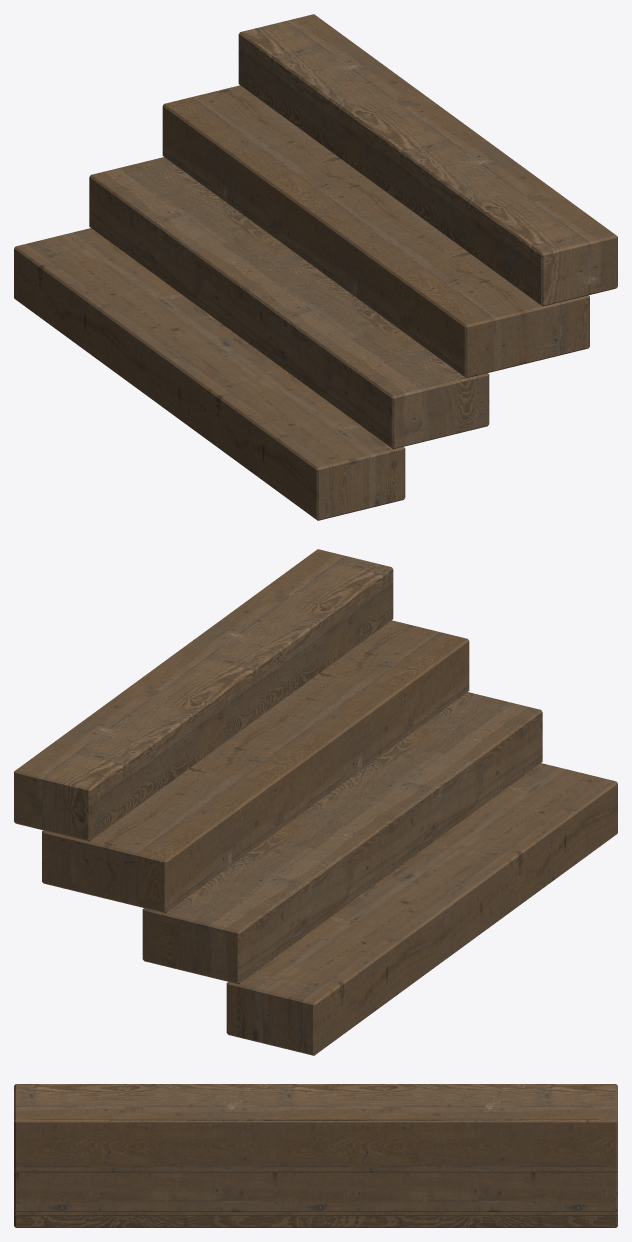
The model's file is SM_Stair04C.fbx.
The picture shows the model from 3 angles, top to bottom: view 1: azimuth 30°, elevation 25°; view 2: azimuth 150°, elevation 25°; view 3: azimuth 270°, elevation 25°; orthographic projection.
Parts seen in each view (by area): view 1: SM_Stair04C; view 2: SM_Stair04C; view 3: SM_Stair04C.
Boxes of the visible parts, x1=… form: SM_Stair04C: x1=14, y1=14, x2=617, y2=520; SM_Stair04C: x1=14, y1=549, x2=617, y2=1055; SM_Stair04C: x1=14, y1=1084, x2=617, y2=1227.
Bounding box in the file's own units: 141 × 246 × 95.02.
